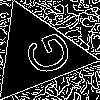G: (13, 28, 75, 83)
